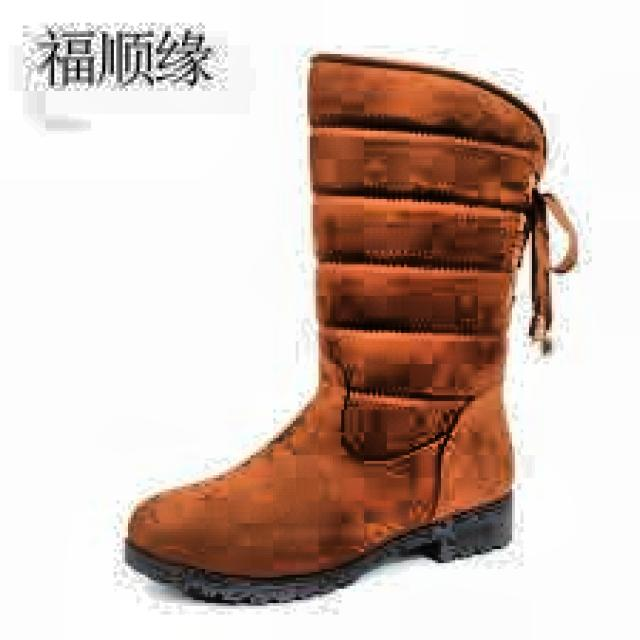shoes: (118, 44, 587, 608)
